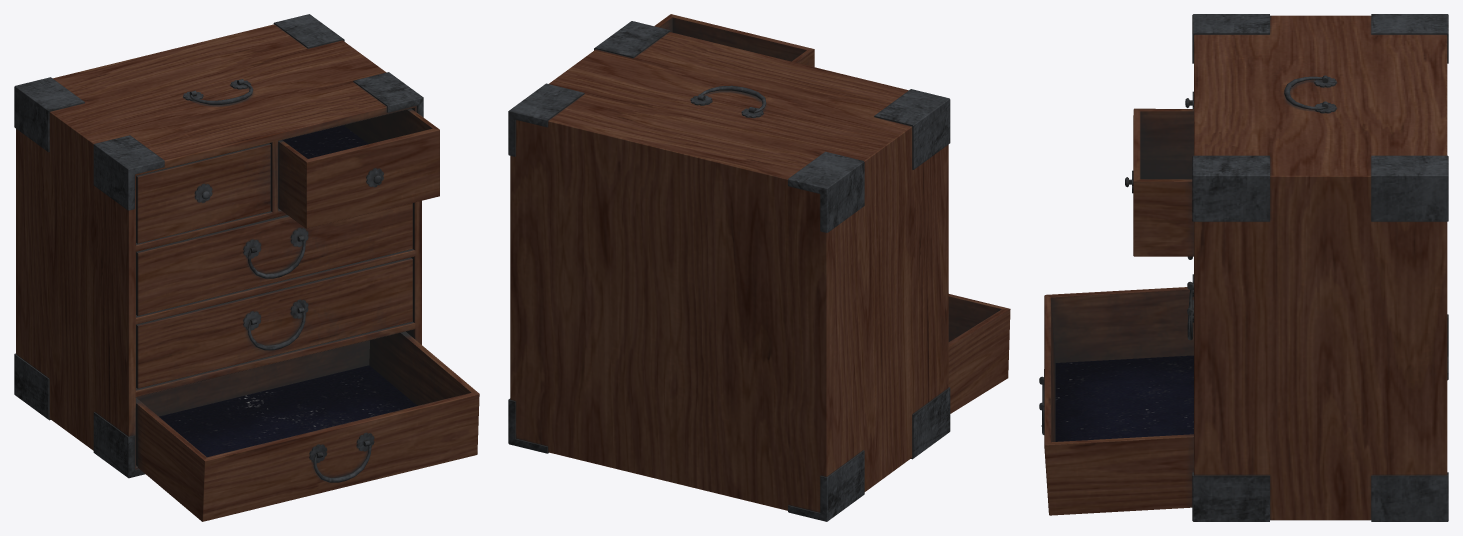
The model's file is obj_japanese_chest_8cbc2e.glb.
The picture shows the model from 3 angles, left to right: view 1: azimuth 30°, elevation 25°; view 2: azimuth 150°, elevation 25°; view 3: azimuth 270°, elevation 25°; orthographic projection. The views are drawn at different scales.
Visible parts, largest first — view 1: obj_japanese_chest_8cbc2e; view 2: obj_japanese_chest_8cbc2e; view 3: obj_japanese_chest_8cbc2e.
Part boxes in pixels (x1=…): obj_japanese_chest_8cbc2e: x1=14, y1=14, x2=479, y2=521; obj_japanese_chest_8cbc2e: x1=508, y1=14, x2=1010, y2=521; obj_japanese_chest_8cbc2e: x1=1039, y1=14, x2=1448, y2=521.
Bounding box in the file's own units: 0.8882 × 0.9 × 0.9495.
Materials: 1 (1 with a texture image).
